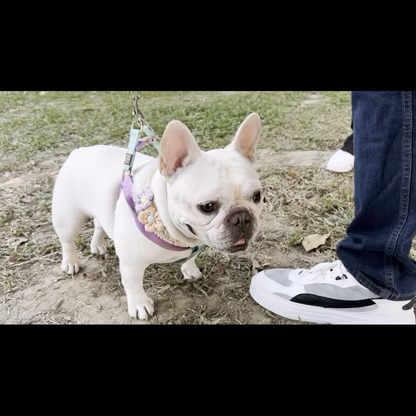bulldog: (48, 111, 268, 322)
